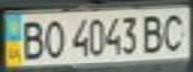0: (87, 16, 106, 57)
3: (121, 12, 142, 55)
4: (66, 16, 90, 58), (103, 14, 124, 56)
B: (15, 17, 48, 61), (139, 11, 169, 54)
C: (157, 10, 190, 53)
O: (39, 16, 69, 60)
